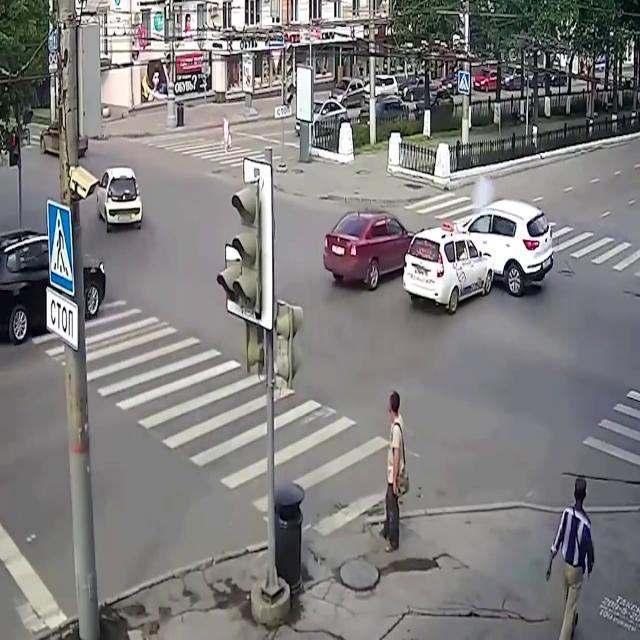accident: (403, 202, 555, 312)
non-accident: (300, 67, 568, 141), (303, 78, 453, 138), (464, 64, 570, 96)
